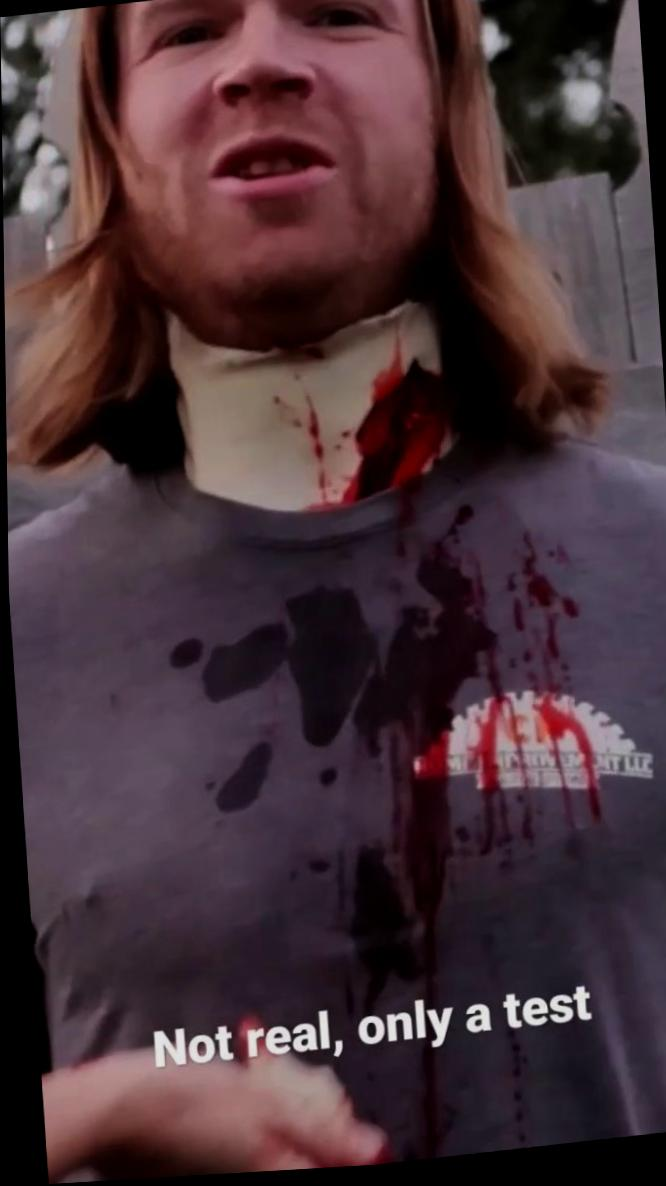Fire: (290, 509, 597, 1015), (272, 365, 451, 529), (504, 542, 577, 671), (417, 1047, 439, 1164)
